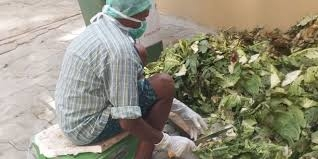kitchen_waste: (232, 15, 317, 48), (255, 96, 309, 142), (159, 50, 190, 71), (237, 71, 263, 92), (219, 62, 242, 85)
metal: (168, 124, 237, 158)
